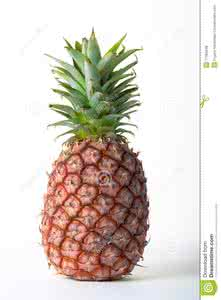pineapple: (39, 29, 156, 282)
